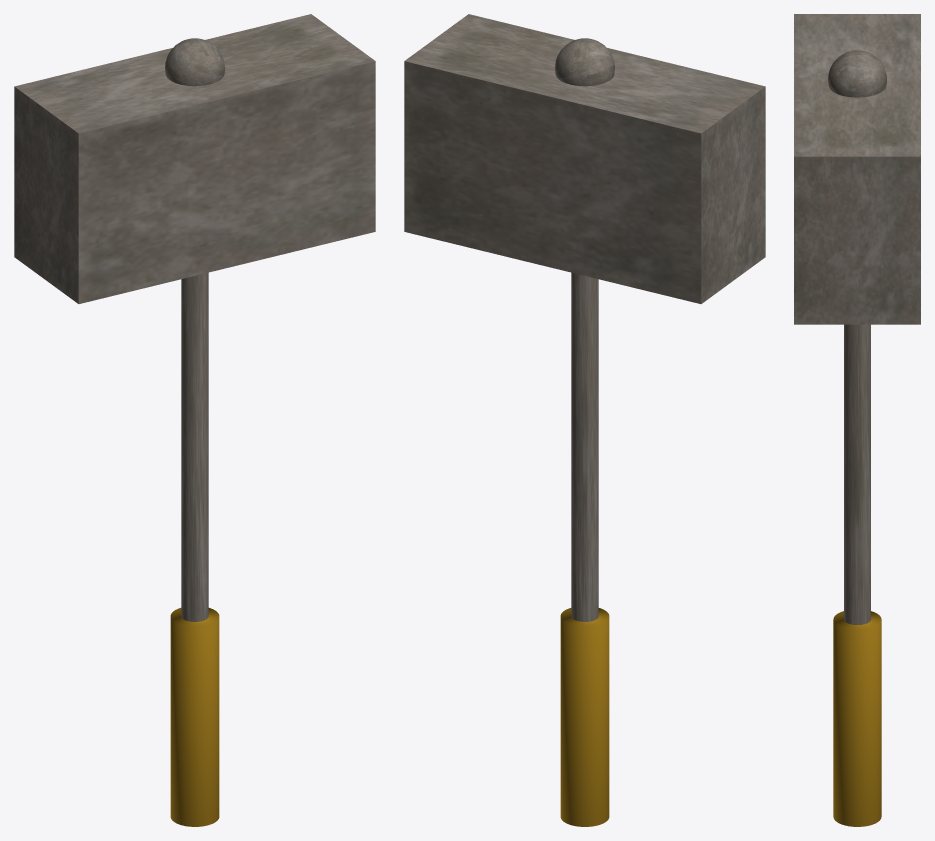
3 views of the same model, side by side, from view 1: azimuth 30°, elevation 25°; view 2: azimuth 150°, elevation 25°; view 3: azimuth 270°, elevation 25° (orthographic).
Parts seen in each view (by area): view 1: Cube.001, grip_normal.016, Cylinder.004, Sphere.002; view 2: Cube.001, grip_normal.016, Cylinder.004, Sphere.002; view 3: Cube.001, grip_normal.016, Cylinder.004, Sphere.002.
Boxes of the visible parts, x1=… form: Cube.001: x1=14, y1=14, x2=375, y2=303; grip_normal.016: x1=170, y1=608, x2=219, y2=826; Cylinder.004: x1=181, y1=272, x2=208, y2=621; Sphere.002: x1=165, y1=38, x2=224, y2=86; Cube.001: x1=404, y1=14, x2=765, y2=303; grip_normal.016: x1=560, y1=608, x2=609, y2=826; Cylinder.004: x1=571, y1=272, x2=598, y2=621; Sphere.002: x1=555, y1=38, x2=614, y2=86; Cube.001: x1=794, y1=14, x2=920, y2=324; grip_normal.016: x1=833, y1=611, x2=881, y2=826; Cylinder.004: x1=844, y1=324, x2=870, y2=624; Sphere.002: x1=828, y1=50, x2=886, y2=97.
Bounding box in the file's own units: 0.2609 × 0.6513 × 0.098.
2 materials, 2 textured.
